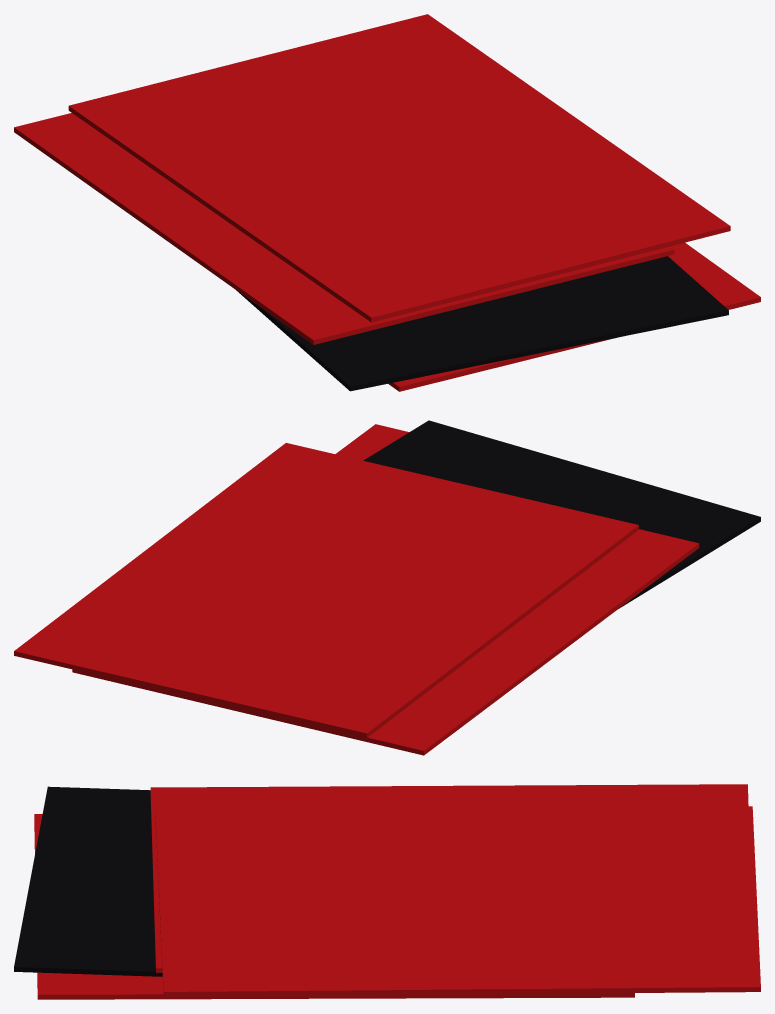
Rendered from Item_OR_Cards_13.glb.
The picture shows the model from 3 angles, top to bottom: view 1: azimuth 30°, elevation 25°; view 2: azimuth 150°, elevation 25°; view 3: azimuth 270°, elevation 25°; orthographic projection. The views are drawn at different scales.
Parts seen in each view (by area): view 1: Item_OR_Cards_13; view 2: Item_OR_Cards_13; view 3: Item_OR_Cards_13.
Part boxes in pixels (<box>): Item_OR_Cards_13: <box>14,14,760,391</box>; Item_OR_Cards_13: <box>14,420,760,755</box>; Item_OR_Cards_13: <box>14,784,760,999</box>.
Bounding box in the file's own units: 0.0758 × 0.0038 × 0.11.
